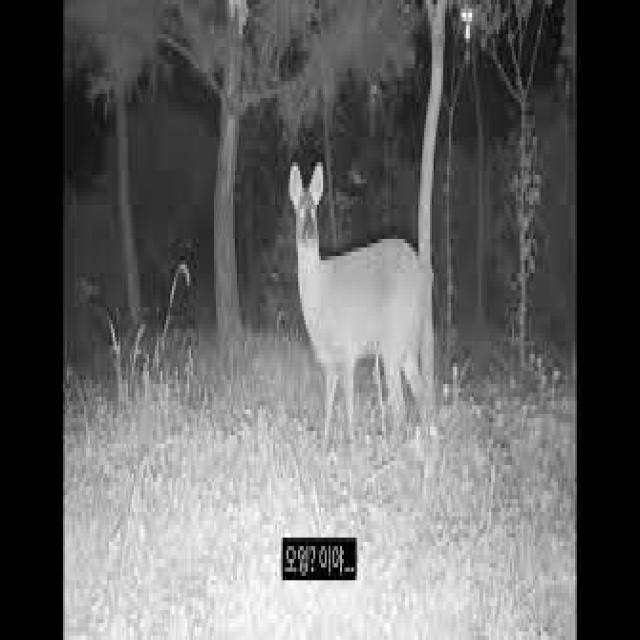elk: (257, 144, 466, 503)
